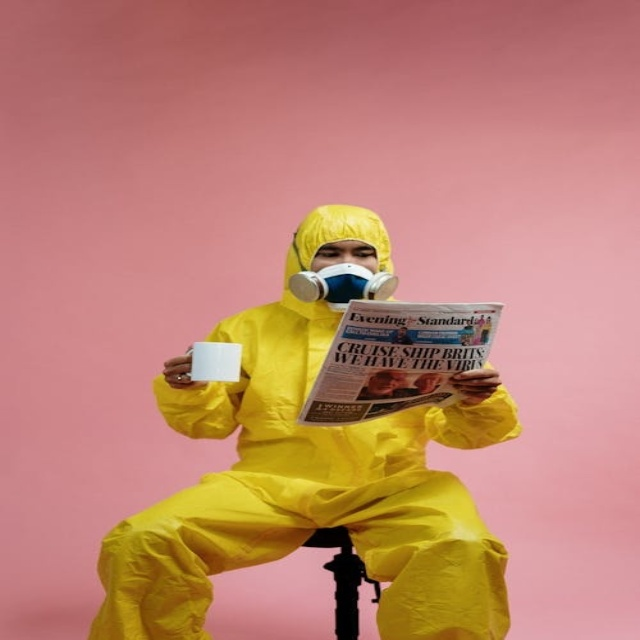Mascara: (283, 260, 408, 310)
Sin_gafas: (314, 241, 379, 264)
Sin_guantes: (446, 365, 501, 403), (162, 350, 209, 389)
